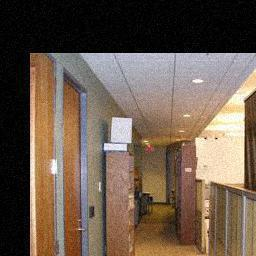Puerta: (32, 62, 56, 256), (62, 72, 86, 256)
